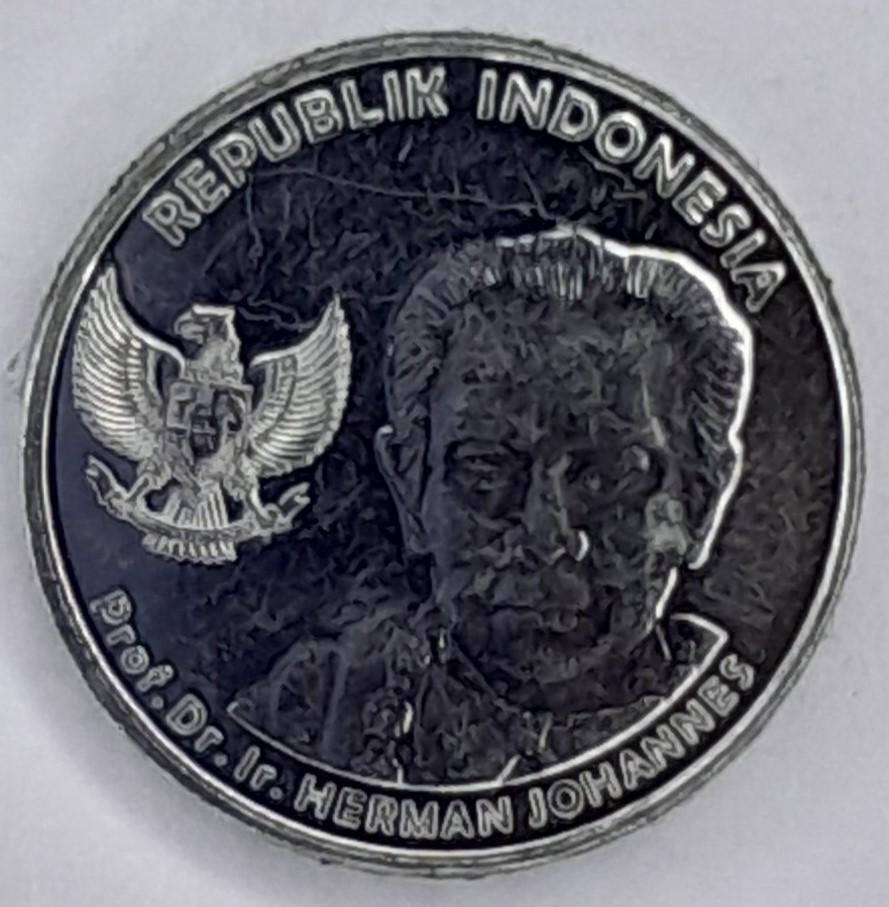coin_100_e2016: (13, 26, 869, 879)
